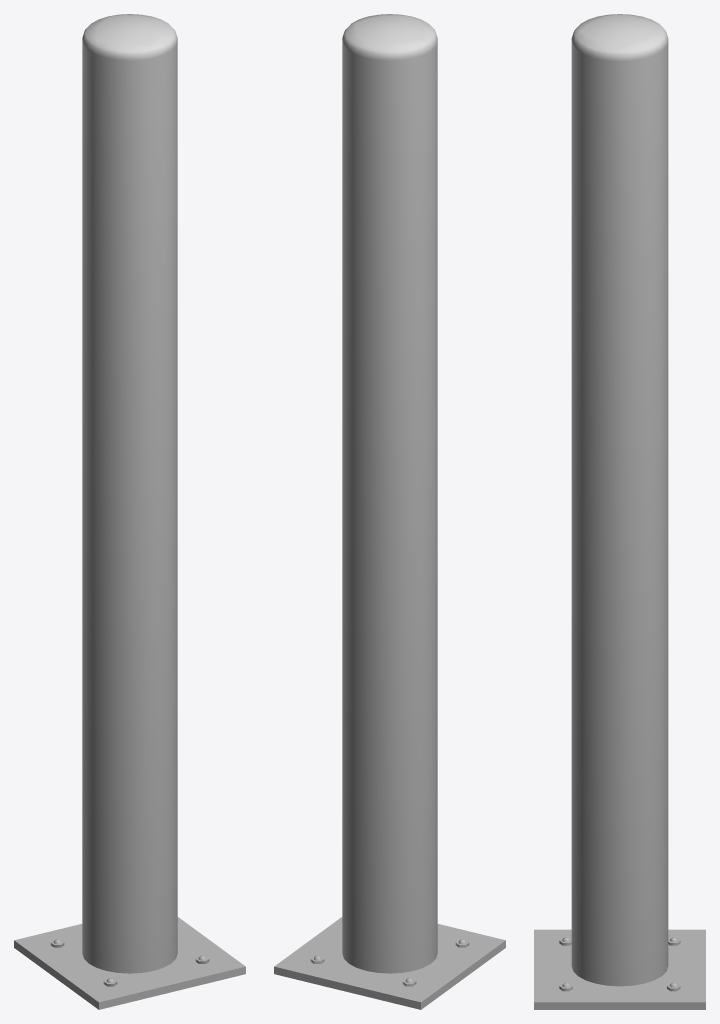
Rendered from traffic_bollard_01_metal_large.glb.
The picture shows the model from 3 angles, left to right: view 1: azimuth 30°, elevation 25°; view 2: azimuth 150°, elevation 25°; view 3: azimuth 270°, elevation 25°; orthographic projection.
Parts seen in each view (by area): view 1: traffic_bollard_01_metal_large; view 2: traffic_bollard_01_metal_large; view 3: traffic_bollard_01_metal_large.
Boxes of the visible parts, <box> form: traffic_bollard_01_metal_large: <box>14,14,245,1009</box>; traffic_bollard_01_metal_large: <box>274,14,505,1009</box>; traffic_bollard_01_metal_large: <box>534,14,705,1009</box>.
Size of the model in its own units: 0.2032 by 1.24 by 0.2032.
Materials: 1 (1 with a texture image).
